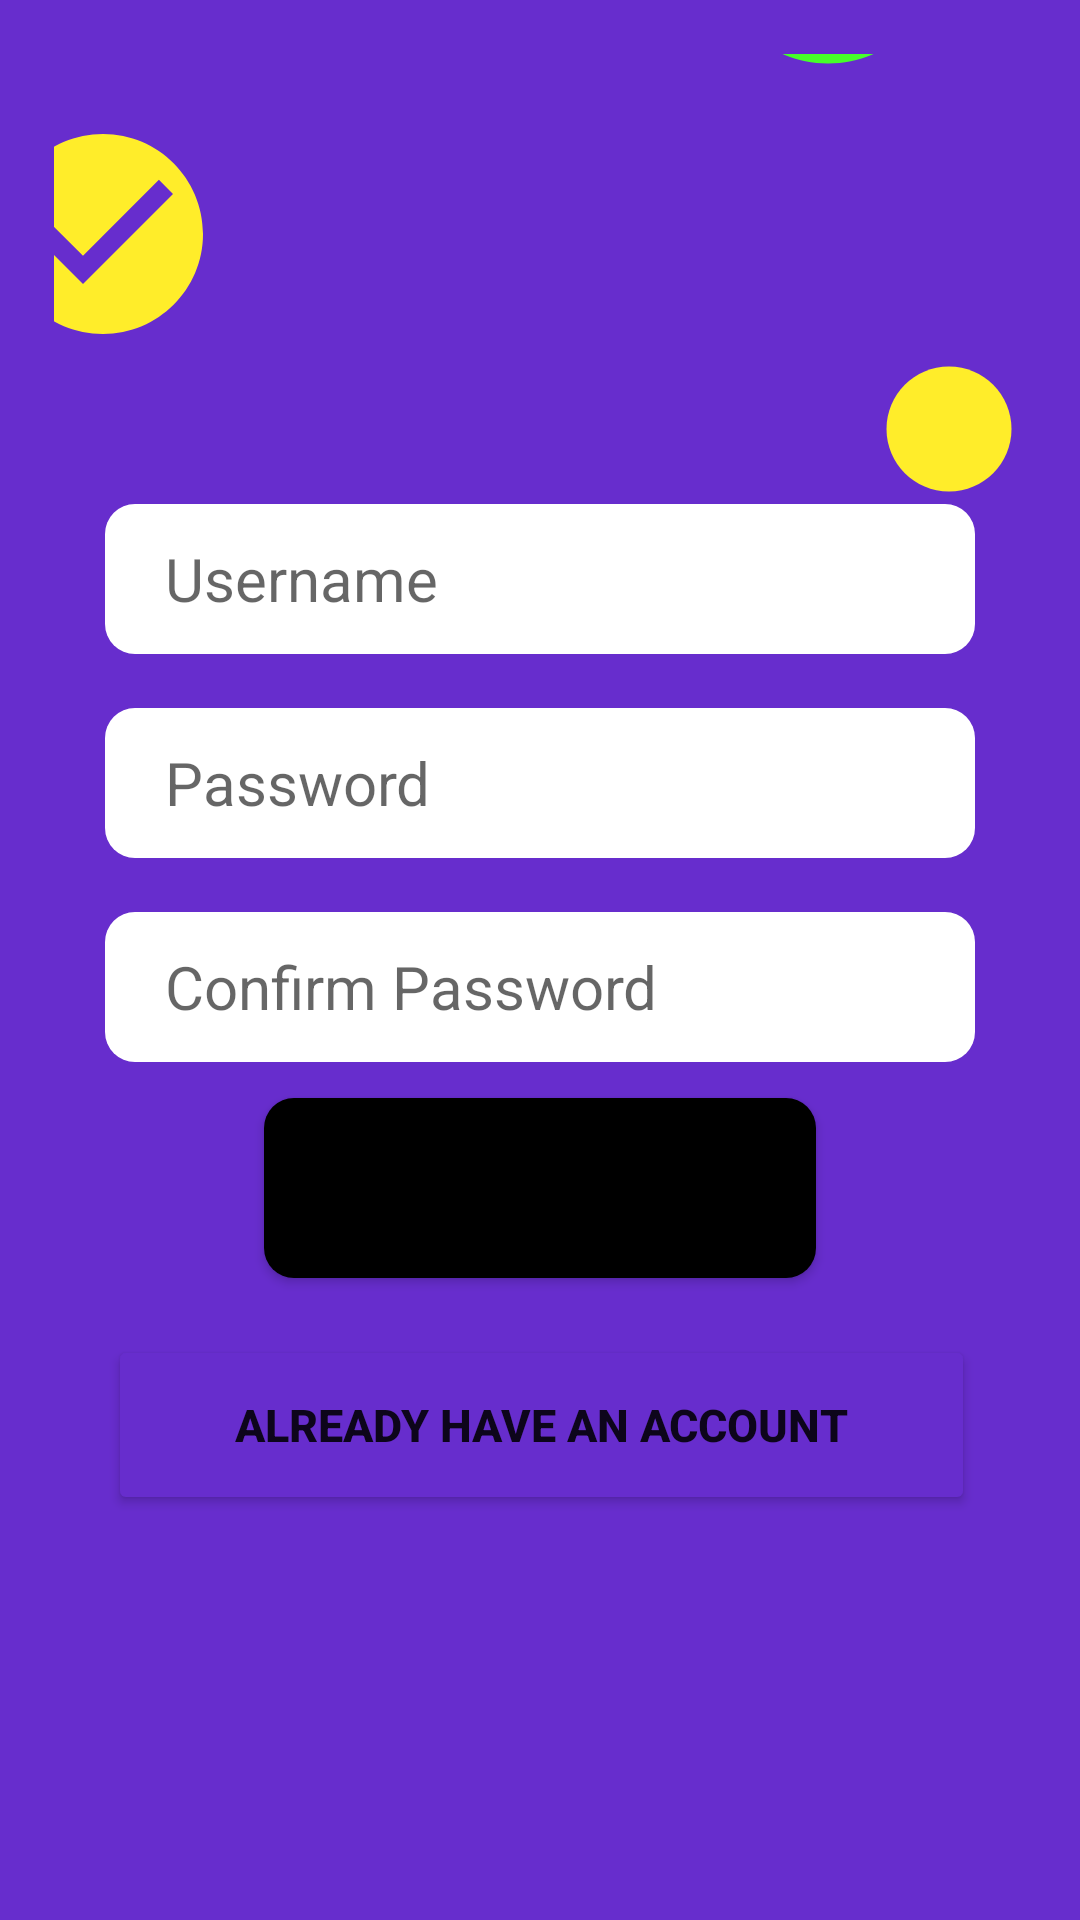

Locate icon controls on the screen. Image size 1080 x 1920, boxes as [x1, y1, x2, y2].
check: [54, 134, 203, 334]
